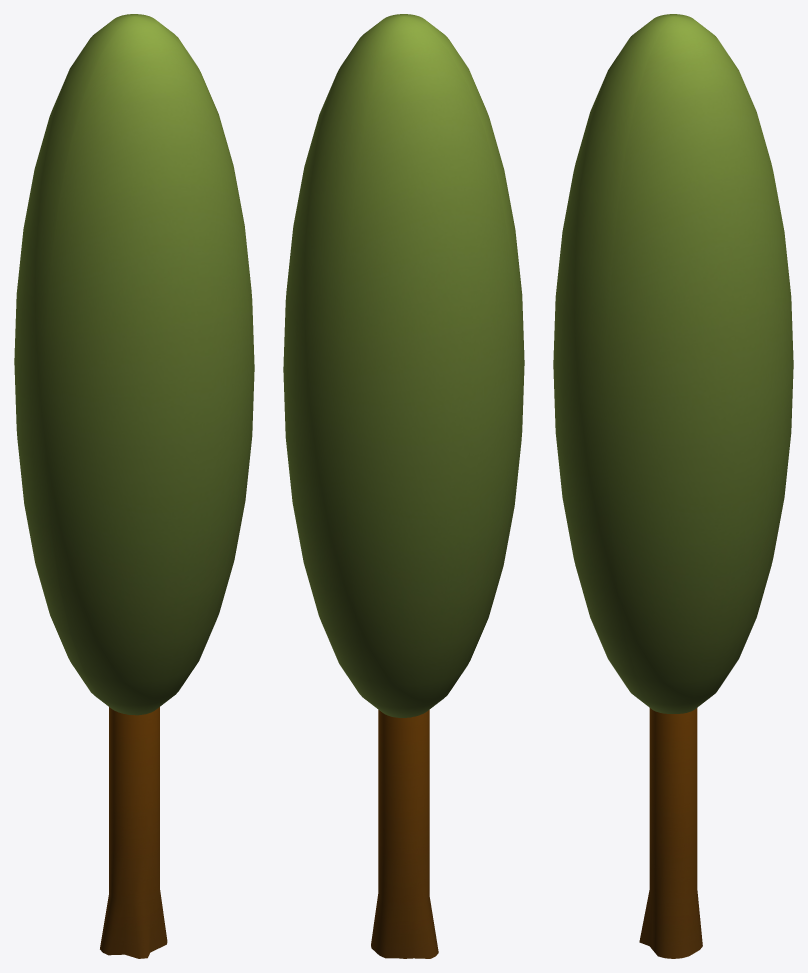
File: Tree 5.fbx
3 views of the same model, side by side, from view 1: azimuth 30°, elevation 25°; view 2: azimuth 150°, elevation 25°; view 3: azimuth 270°, elevation 25° (orthographic).
Visible parts, largest first — view 1: Tree 5; view 2: Tree 5; view 3: Tree 5.
Part boxes in pixels (bbox=[...]): Tree 5: bbox=[14, 14, 254, 958]; Tree 5: bbox=[283, 14, 524, 958]; Tree 5: bbox=[553, 14, 793, 958].
Size of the model in its own units: 28.72 by 122 by 28.66.
